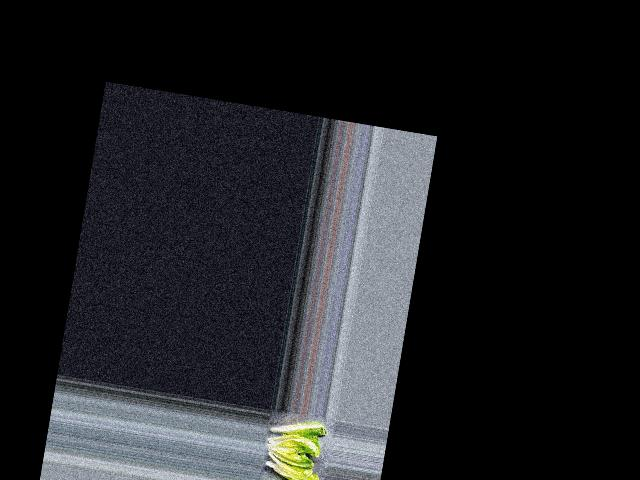lettuce: (257, 475, 312, 480)
